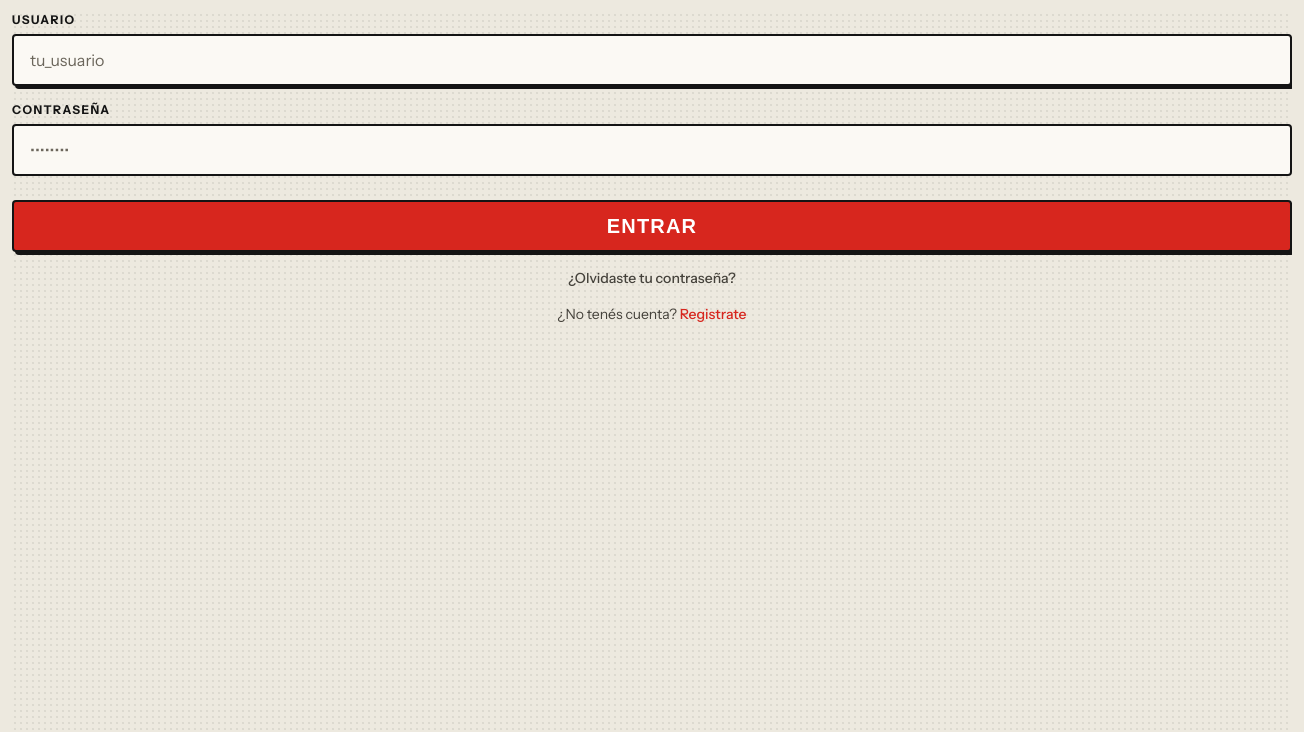
Test: LoginForm › credenciales malas: muestra el error y no navega
Step 1. Type "rosario" into the field labelled "Usuario" → [652, 60], box [12, 34, 1292, 86]
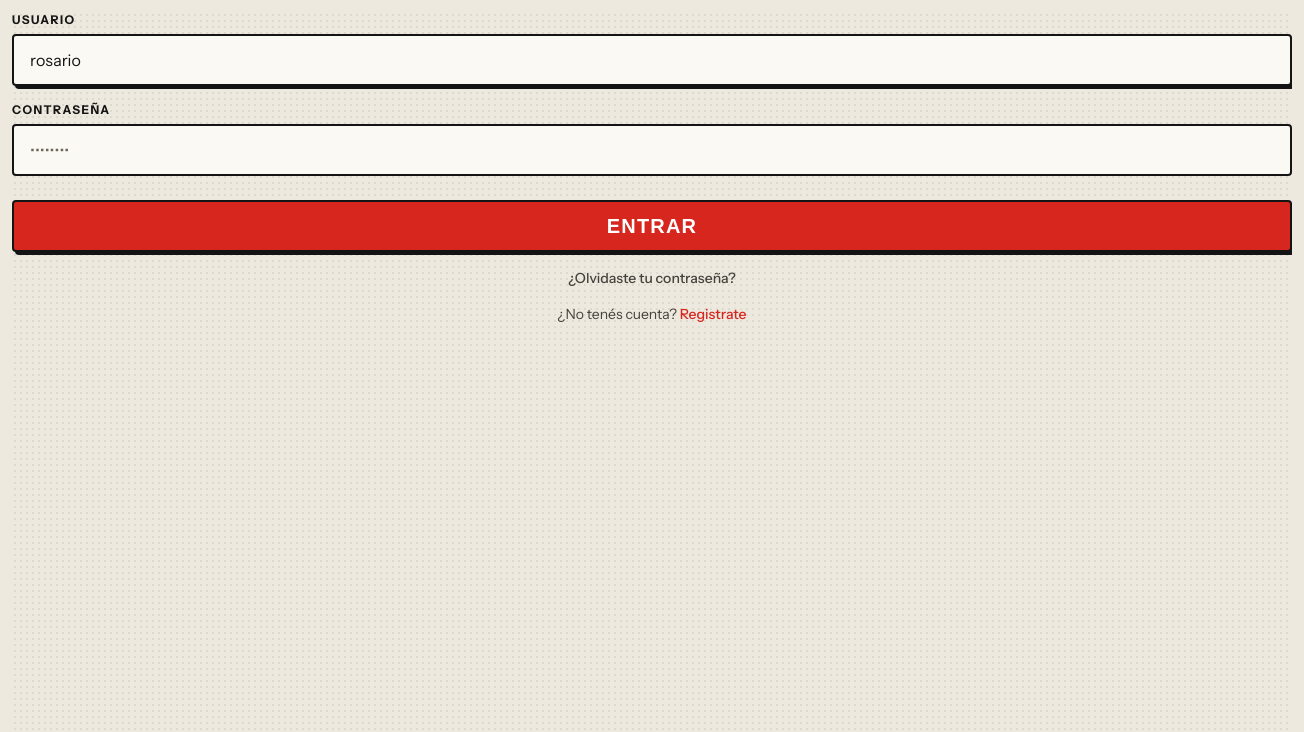
Step 2. Type "secreta1" into the password field labelled "Contraseña" → [652, 150], box [12, 124, 1292, 176]
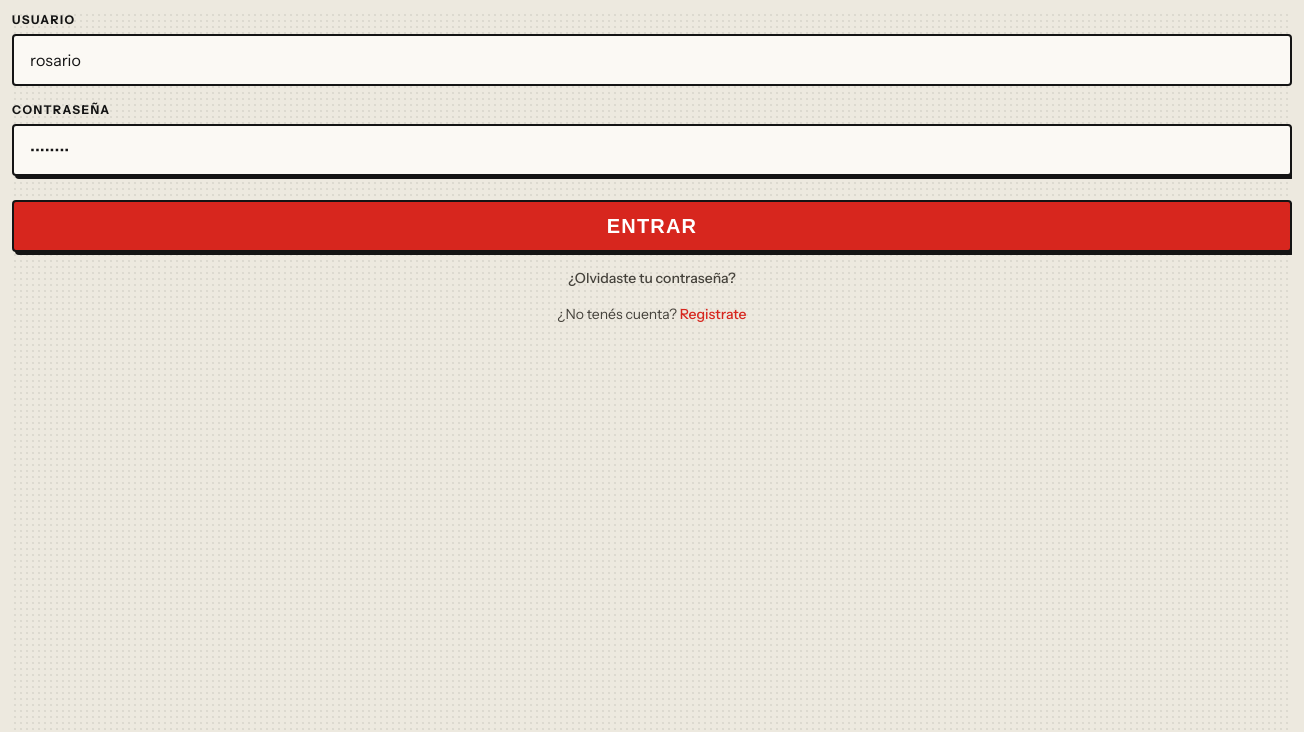
Step 3. Click the button "Entrar" → [652, 226], box [12, 200, 1292, 252]
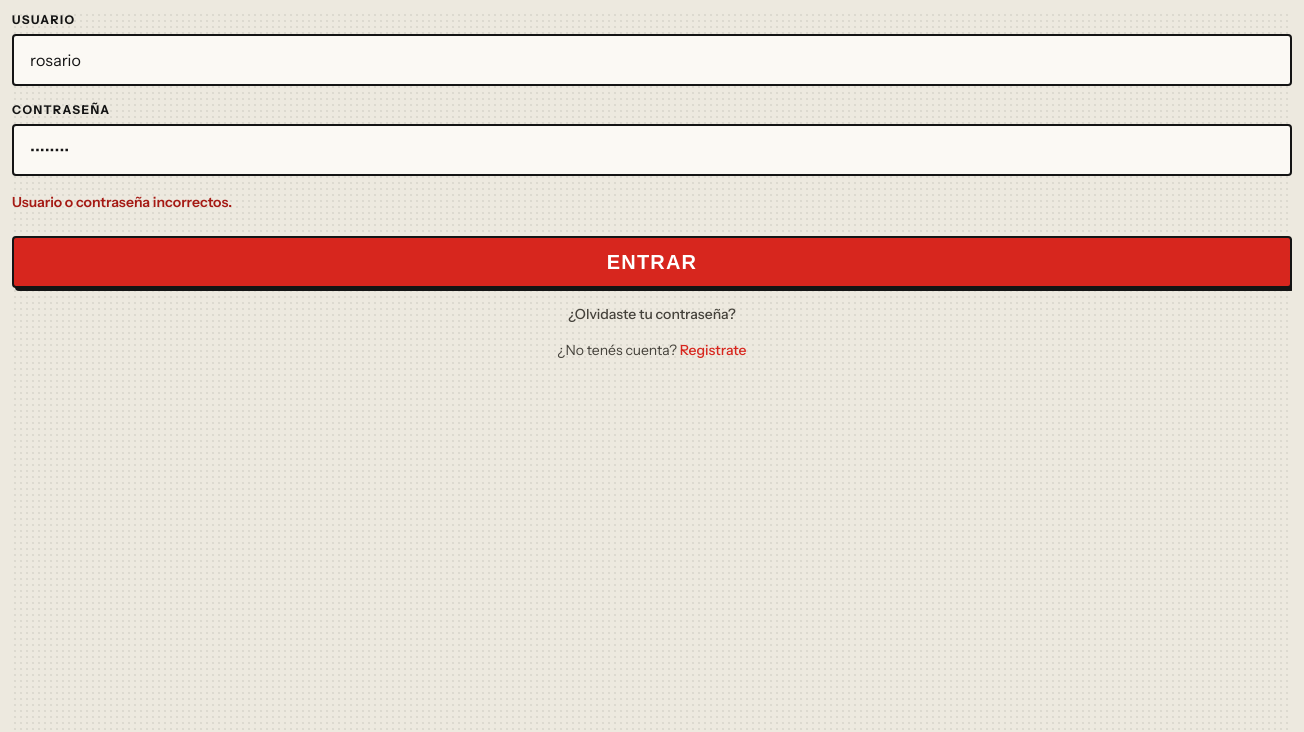
Expected: the button "Entrar" is enabled, [12, 236, 1292, 288]
Now the text "Usuario o contraseña incorrectos." is shown, box [12, 193, 232, 211]
